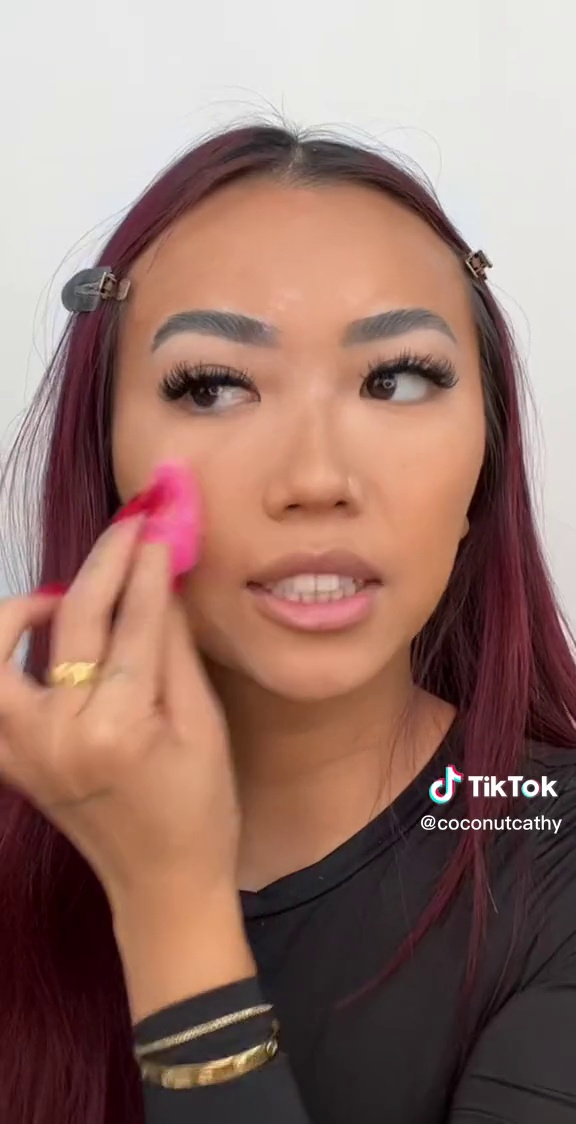train' :'yolo_data/train/images',: (101, 464, 197, 615)
